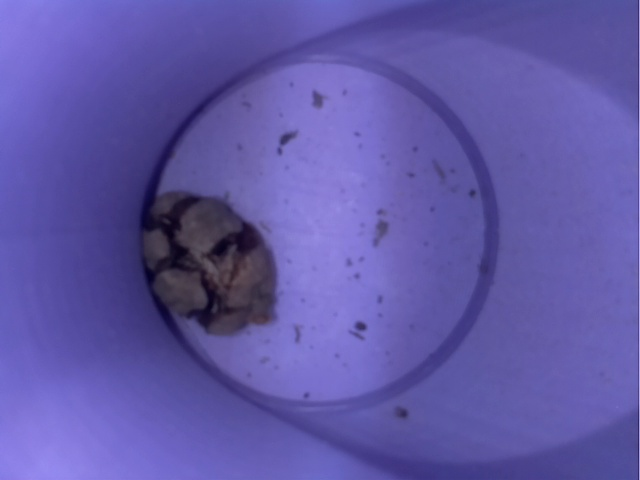ecorce: (122, 178, 305, 360)
